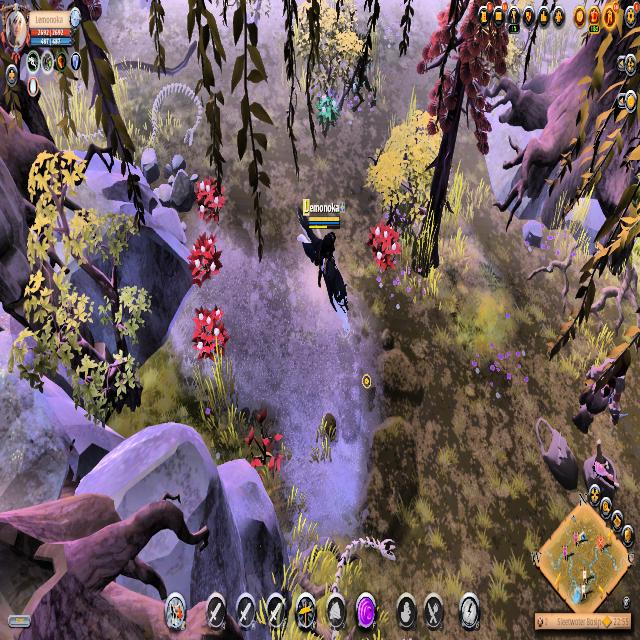fiber tier 3: (313, 93, 342, 138)
fiber tier 5: (365, 216, 403, 276), (191, 304, 228, 364), (188, 231, 224, 291), (193, 175, 228, 223)
